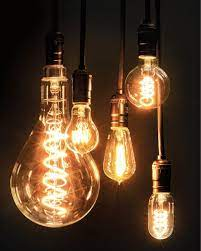bulb: (2, 70, 102, 234), (120, 47, 179, 114), (98, 116, 139, 190), (137, 180, 184, 243), (65, 93, 103, 166)
